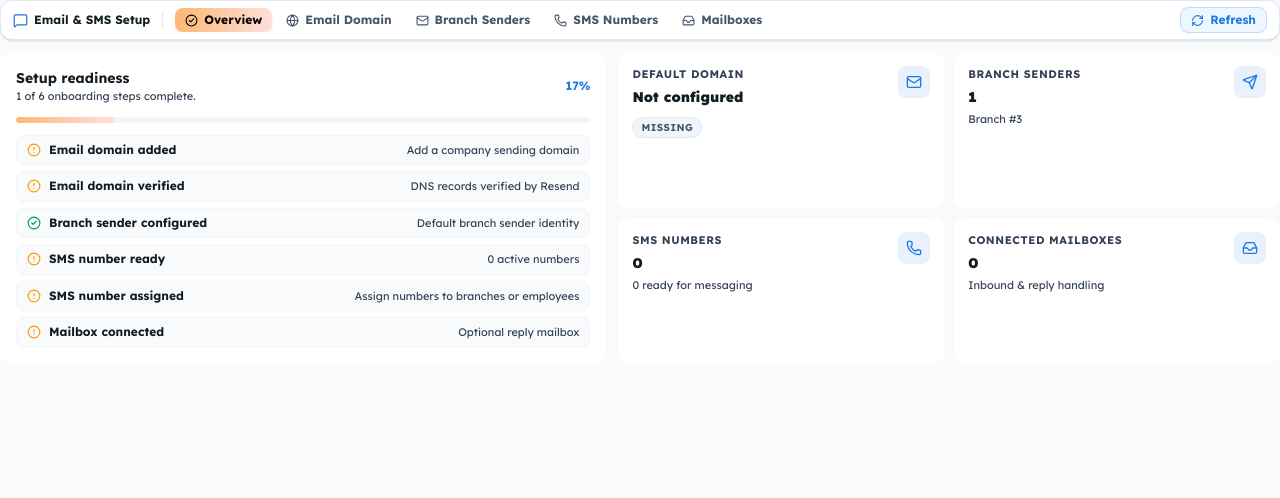
Test: shows a provider error and re-enables sending
The width and height of the screenshot is (1280, 498).
Click the button "Branch Senders": (473, 20) [406, 8, 540, 32]
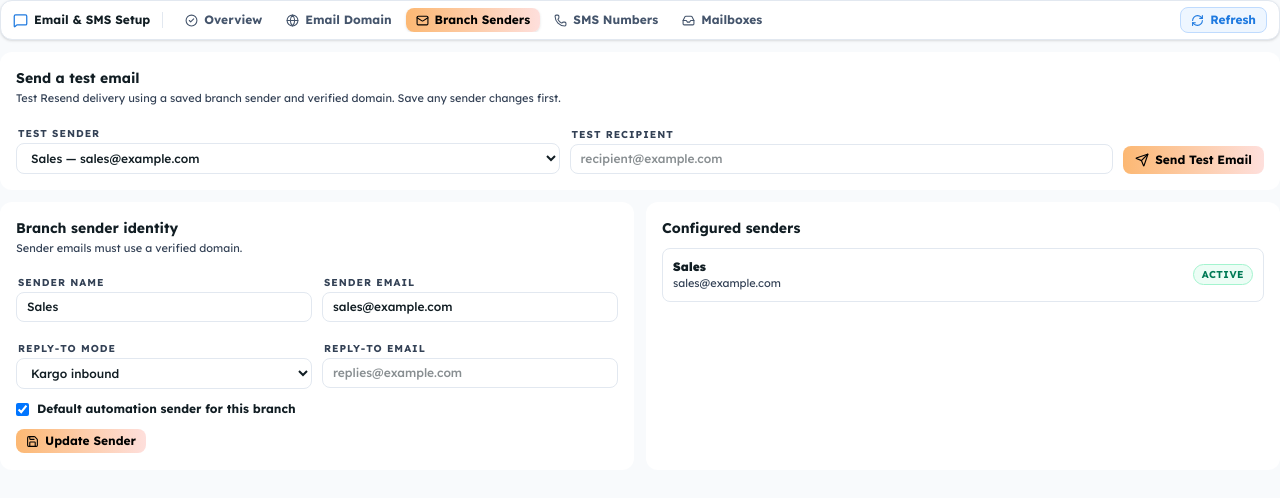
In the field labelled "Test recipient": (841, 158) [570, 144, 1113, 174], type "test@example.com"
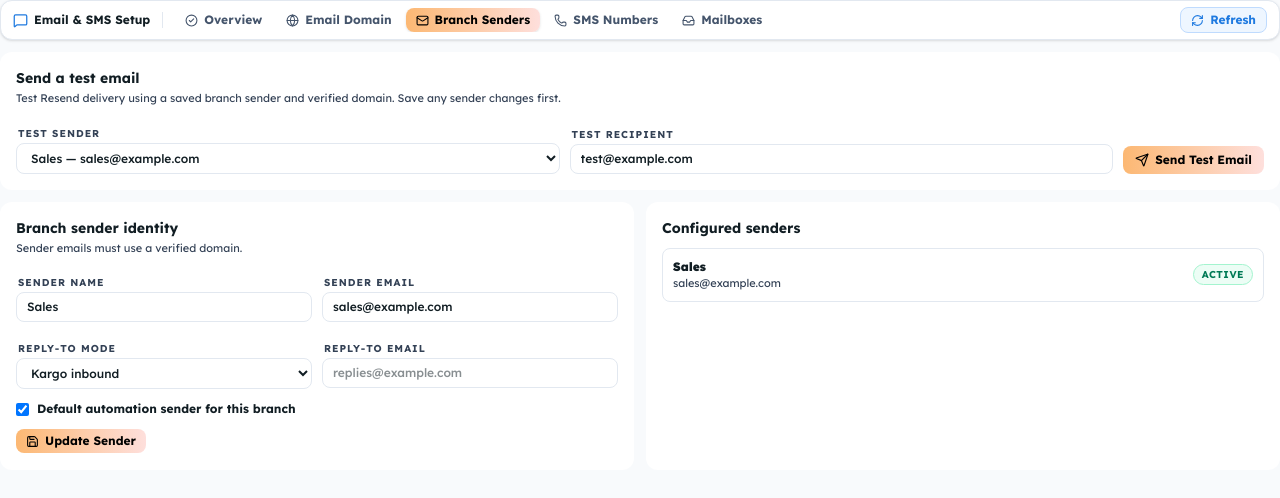
Click the button "Send Test Email": (1194, 160) [1123, 146, 1264, 174]
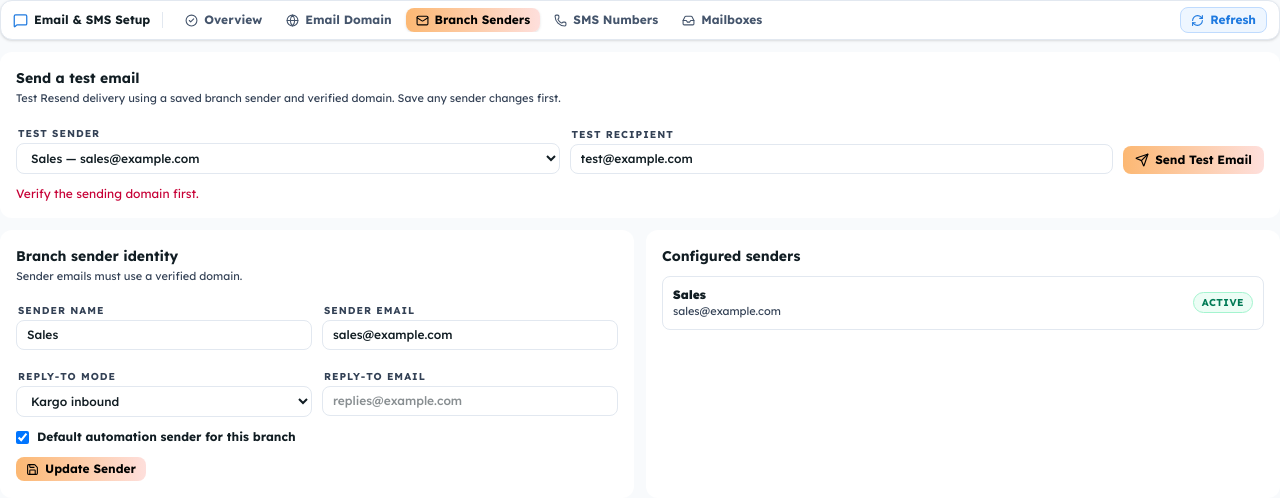
Expected: the button "Send Test Email" is enabled, [1123, 146, 1264, 174]
Expected: the message reads "Verify the sending domain first.", [16, 186, 199, 200]
